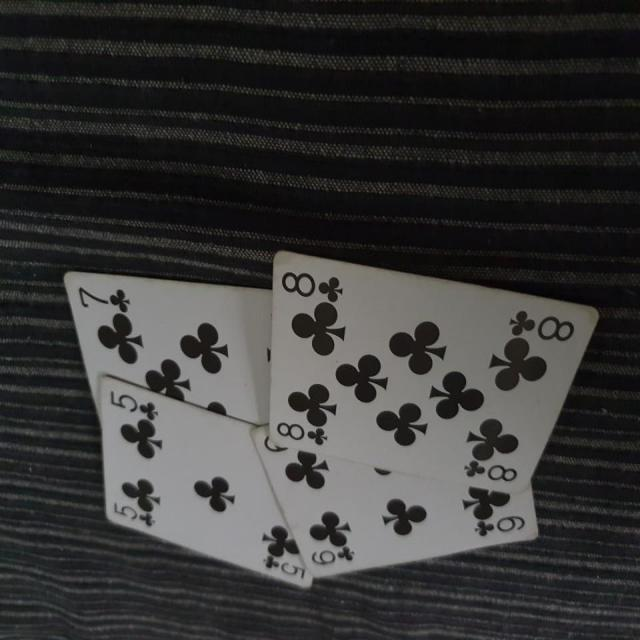5 Trefoils: (96, 373, 312, 594)
6 Trefoils: (246, 424, 538, 580)
7 Trefoils: (62, 266, 269, 428)
8 Trefoils: (267, 248, 601, 498)
